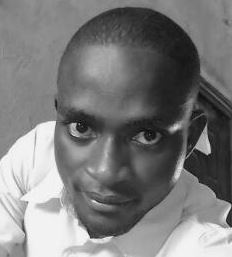without_facemask: (65, 152, 151, 235)
